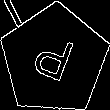P_S: (29, 30, 79, 90)
